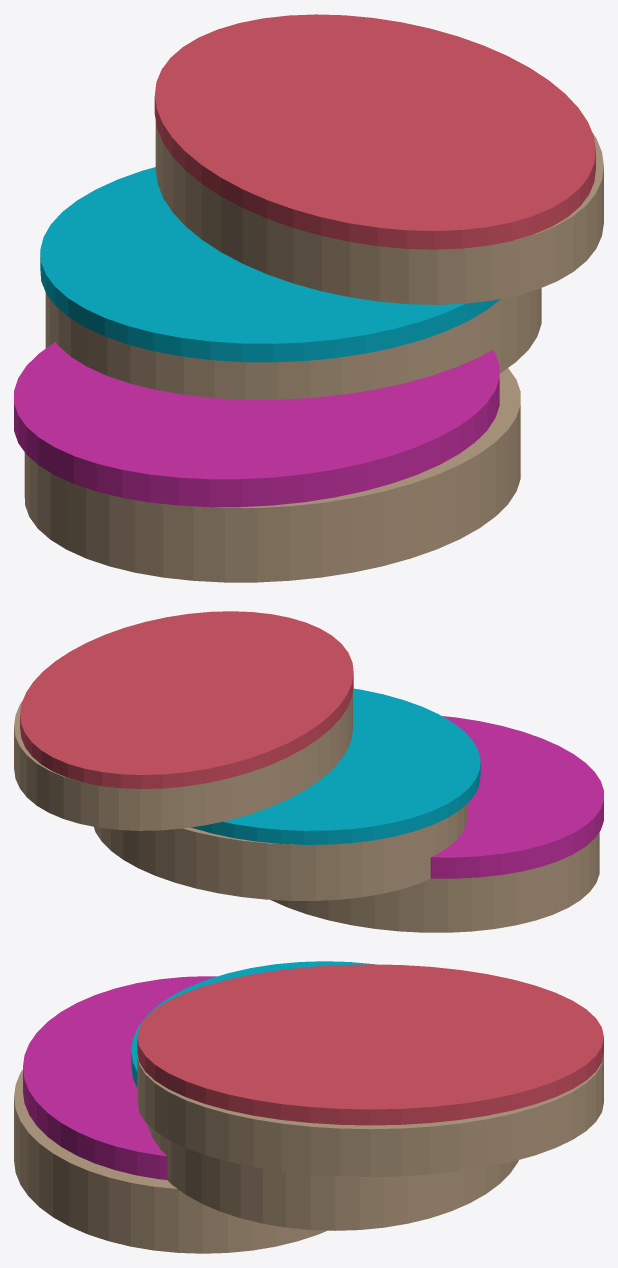
The model's file is Wyatt - Cake.glb.
3 renders of one model, top to bottom at view 1: azimuth 30°, elevation 25°; view 2: azimuth 150°, elevation 25°; view 3: azimuth 270°, elevation 25°, orthographic. The views are drawn at different scales.
Visible parts, largest first — view 1: Mesh_Mesh_head_geo.001_lambert2SG.001; view 2: Mesh_Mesh_head_geo.001_lambert2SG.001; view 3: Mesh_Mesh_head_geo.001_lambert2SG.001.
Part boxes in pixels (box(x1,y1,x2,y2)): Mesh_Mesh_head_geo.001_lambert2SG.001: box(14, 14, 603, 582); Mesh_Mesh_head_geo.001_lambert2SG.001: box(14, 611, 603, 932); Mesh_Mesh_head_geo.001_lambert2SG.001: box(14, 961, 603, 1253).
Bounding box in the file's own units: 0.069 × 0.026 × 0.067.
